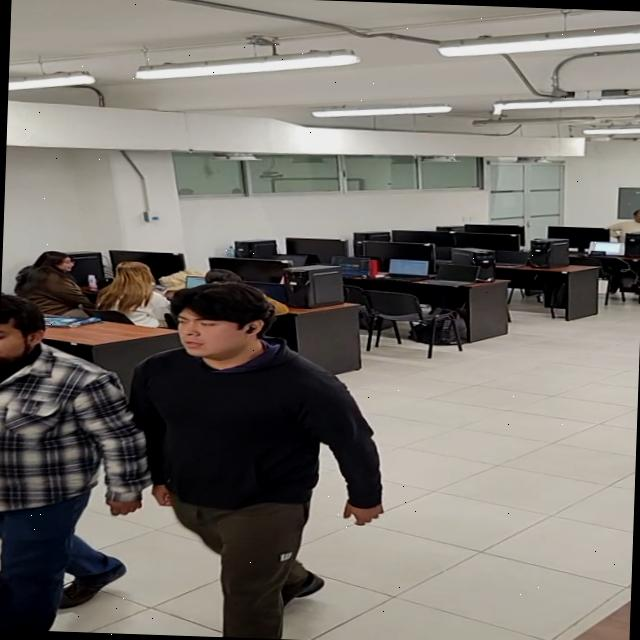Persona: (165, 295, 350, 640), (0, 296, 163, 634)
